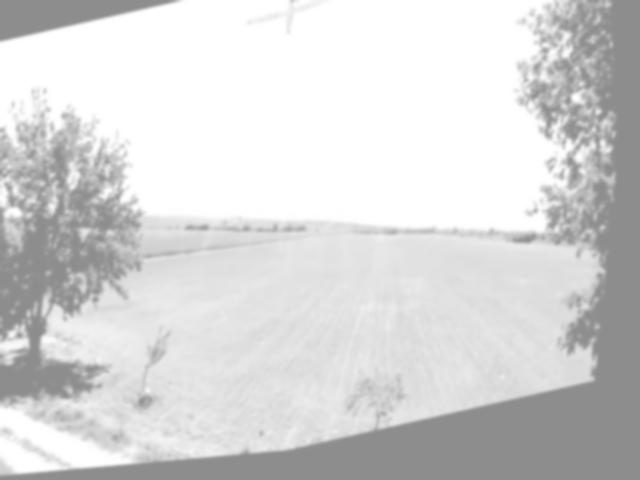hedef: (236, 0, 348, 57)
